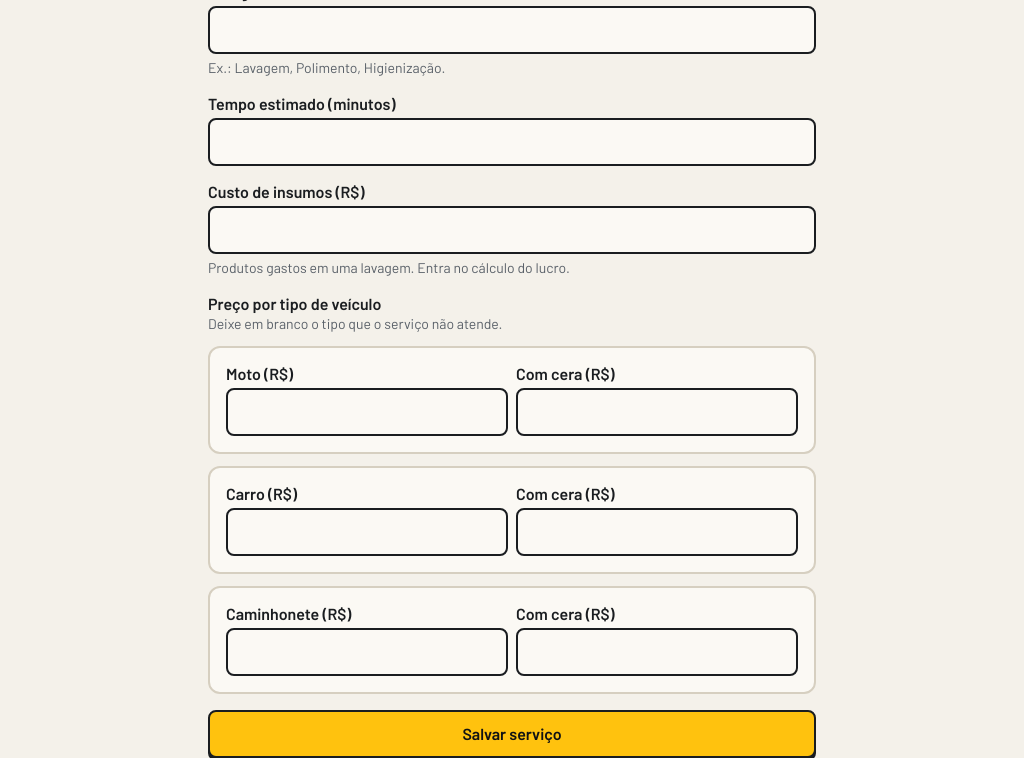
Test case: Serviços e preços › valida o formulário antes de enviar
(page scrolled)
Click the button "Salvar serviço". click: [512, 734]
box: [208, 710, 816, 757]
(page scrolled)
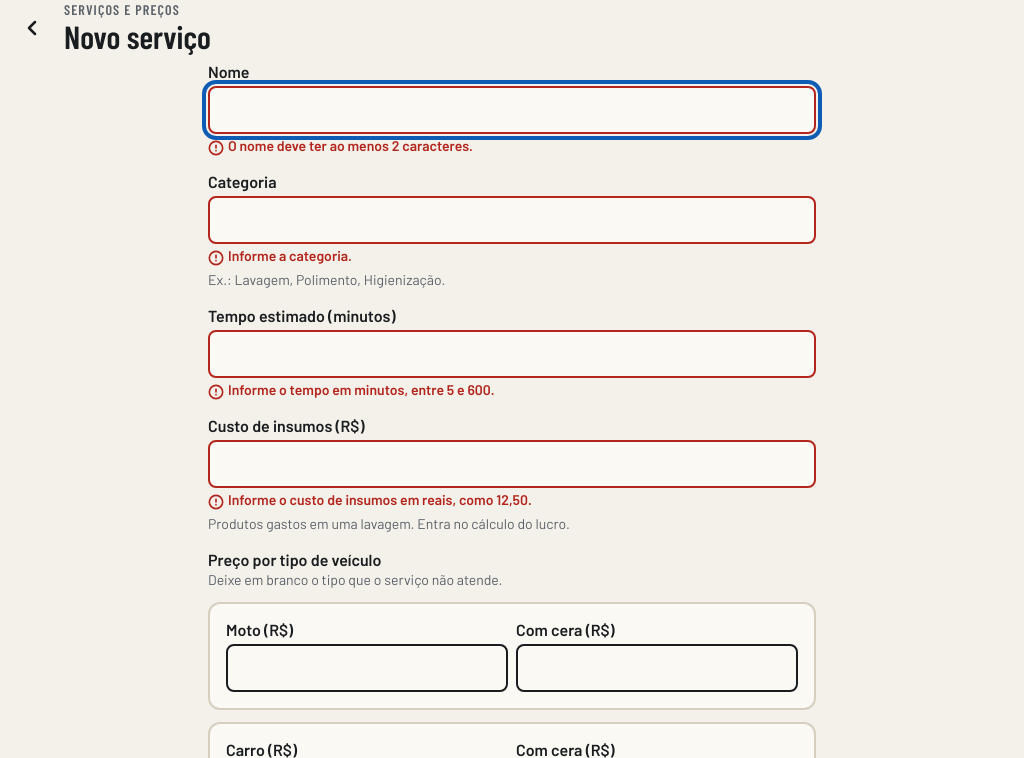
expect the text "O nome deve ter ao menos 2 caracteres." is shown: met, box [208, 137, 473, 156]
expect the text "Informe o tempo em minutos, entre 5 e 600." is shown: met, box [208, 381, 495, 400]
